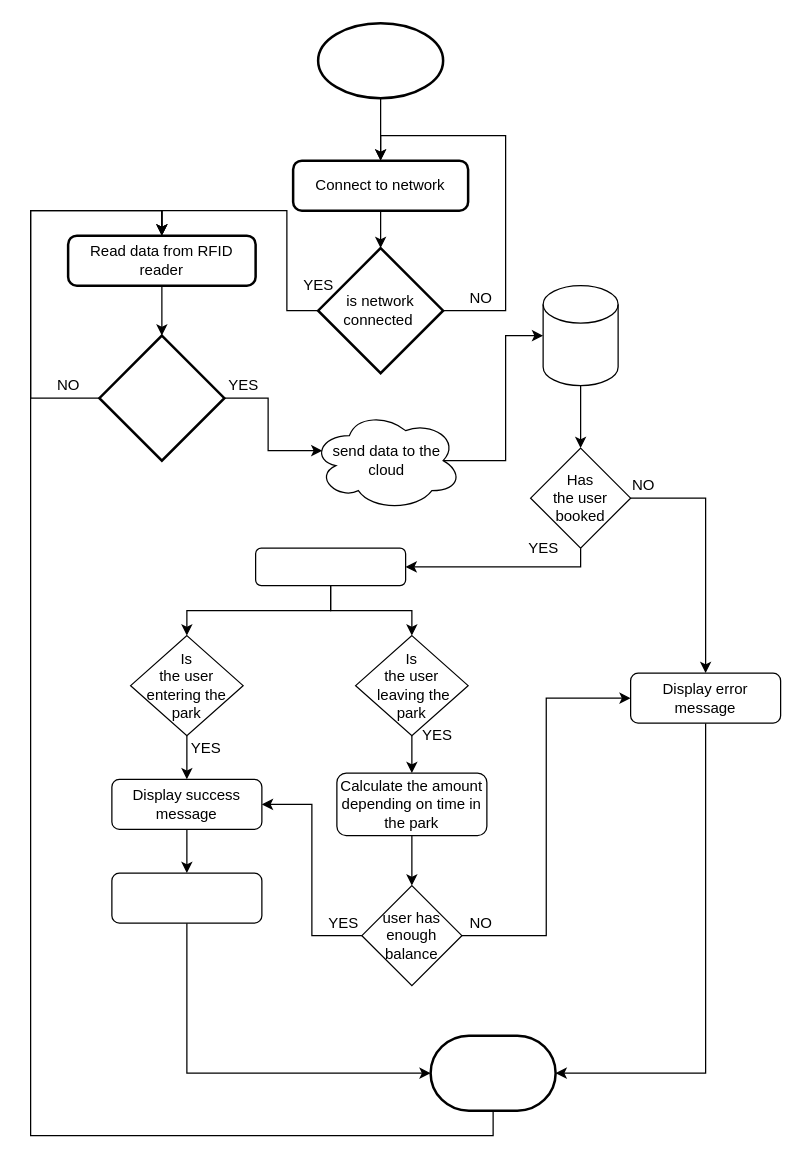
This 803x1168 diagram has some shape labels left out. The centre of each missing label's shape, as x and y in pixels:
card available: pixel 161 397
Check the status of the booking: pixel 330 566
END: pixel 492 1072
Open the gate: pixel 186 897
Read data from database: pixel 580 335
START: pixel 380 60
